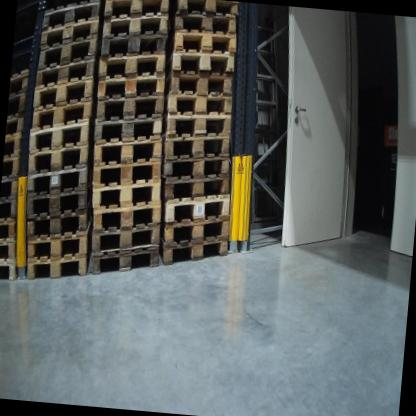pallet: (25, 209, 93, 266), (20, 234, 91, 286), (26, 93, 97, 144), (160, 229, 232, 279), (26, 192, 96, 243), (90, 104, 167, 150), (28, 47, 98, 97), (92, 213, 164, 261), (23, 137, 96, 184), (25, 152, 96, 200), (96, 45, 168, 92), (91, 195, 166, 239), (90, 150, 165, 194), (92, 174, 166, 218), (96, 65, 168, 110), (161, 186, 236, 229), (26, 179, 92, 227), (160, 209, 236, 250), (159, 126, 233, 168), (89, 239, 163, 281), (161, 83, 236, 124), (159, 164, 234, 205), (90, 131, 161, 174), (27, 118, 98, 161), (30, 68, 97, 113), (92, 90, 165, 129), (43, 0, 104, 46), (162, 153, 237, 190), (99, 7, 174, 44), (96, 27, 167, 66), (40, 12, 102, 56), (166, 65, 239, 102), (36, 36, 101, 77), (170, 7, 240, 41), (167, 43, 235, 78), (162, 109, 236, 141), (170, 25, 240, 57), (100, 0, 175, 24), (174, 0, 241, 16), (0, 233, 29, 267), (8, 88, 35, 123), (3, 152, 31, 184), (0, 212, 24, 249), (0, 193, 26, 227), (10, 68, 36, 102), (2, 176, 29, 208), (7, 111, 31, 142), (0, 256, 21, 289), (5, 132, 28, 161), (18, 0, 42, 5)
